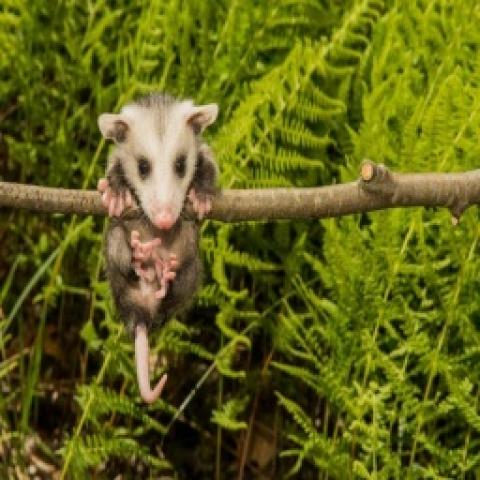small_animal: (94, 90, 219, 403)
